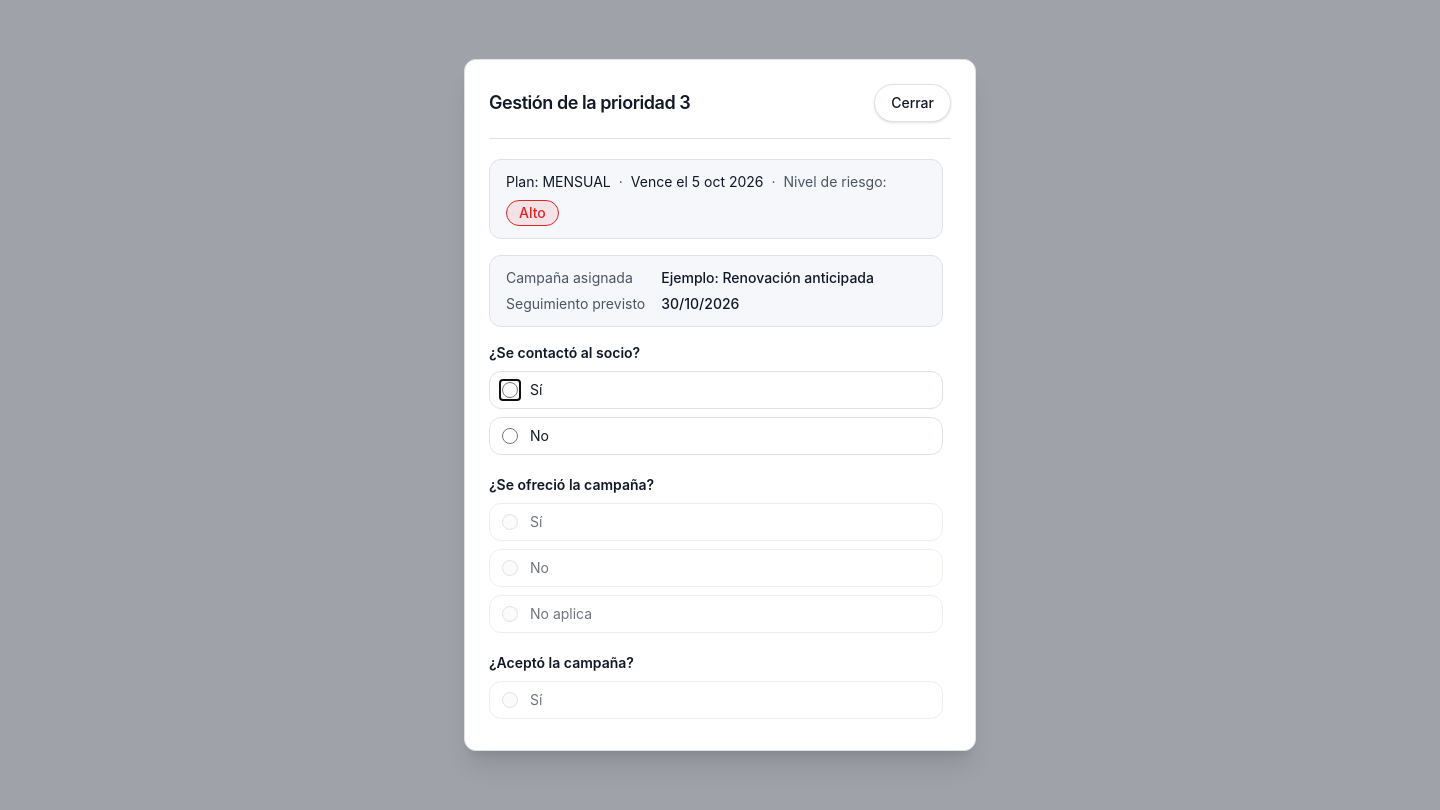
Scenario: FormularioGestion › parte 2: resultado de una gestion pendiente › ofrecida "Sí" → aceptacion Sí/No/Pendiente; ofrecida "No" → solo "No aplica"
Click the radio button labelled "Sí" below "¿Se contactó al socio?": (510, 390) [502, 382, 518, 398]
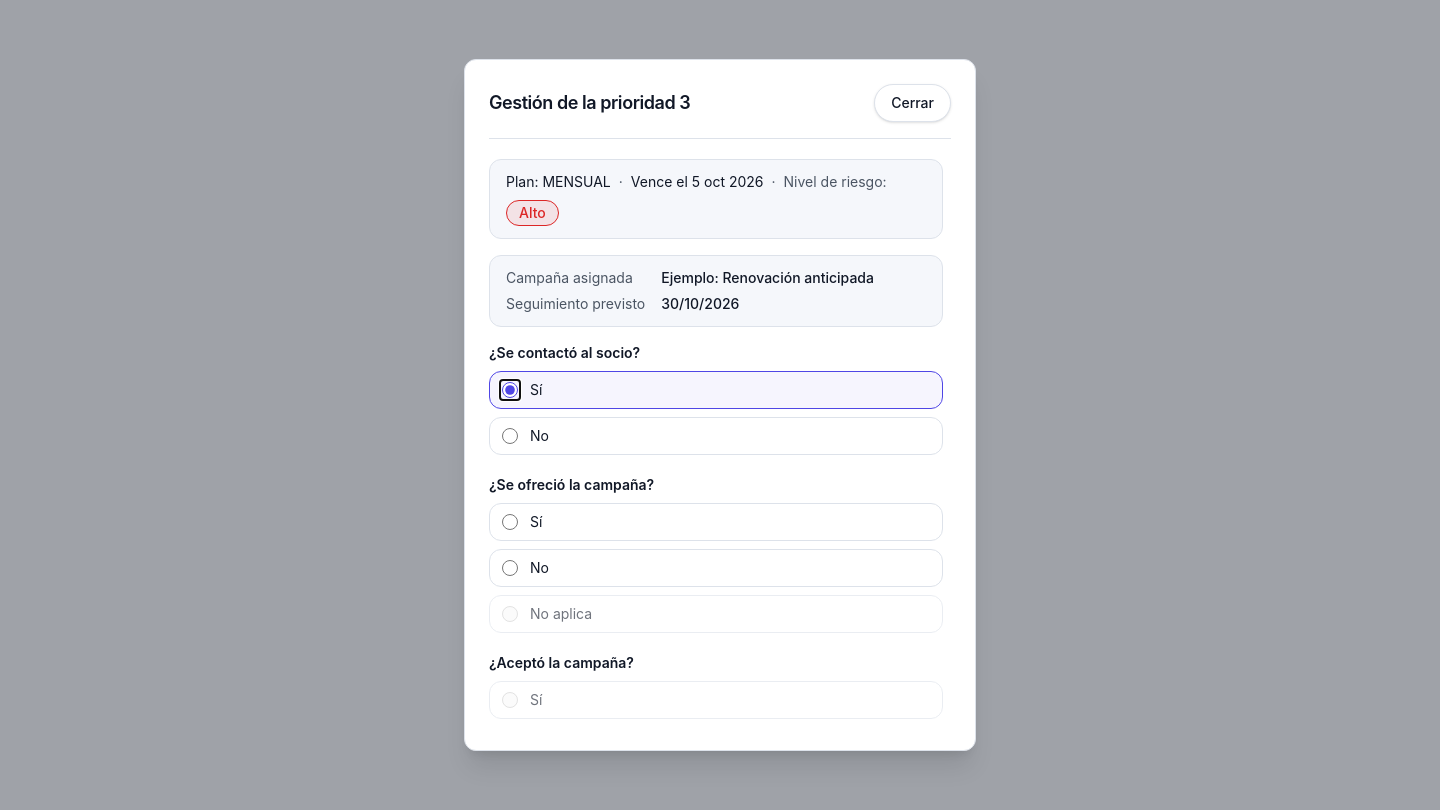
Click the radio button labelled "Sí" below "¿Se ofreció la campaña?": (510, 522) [502, 514, 518, 530]
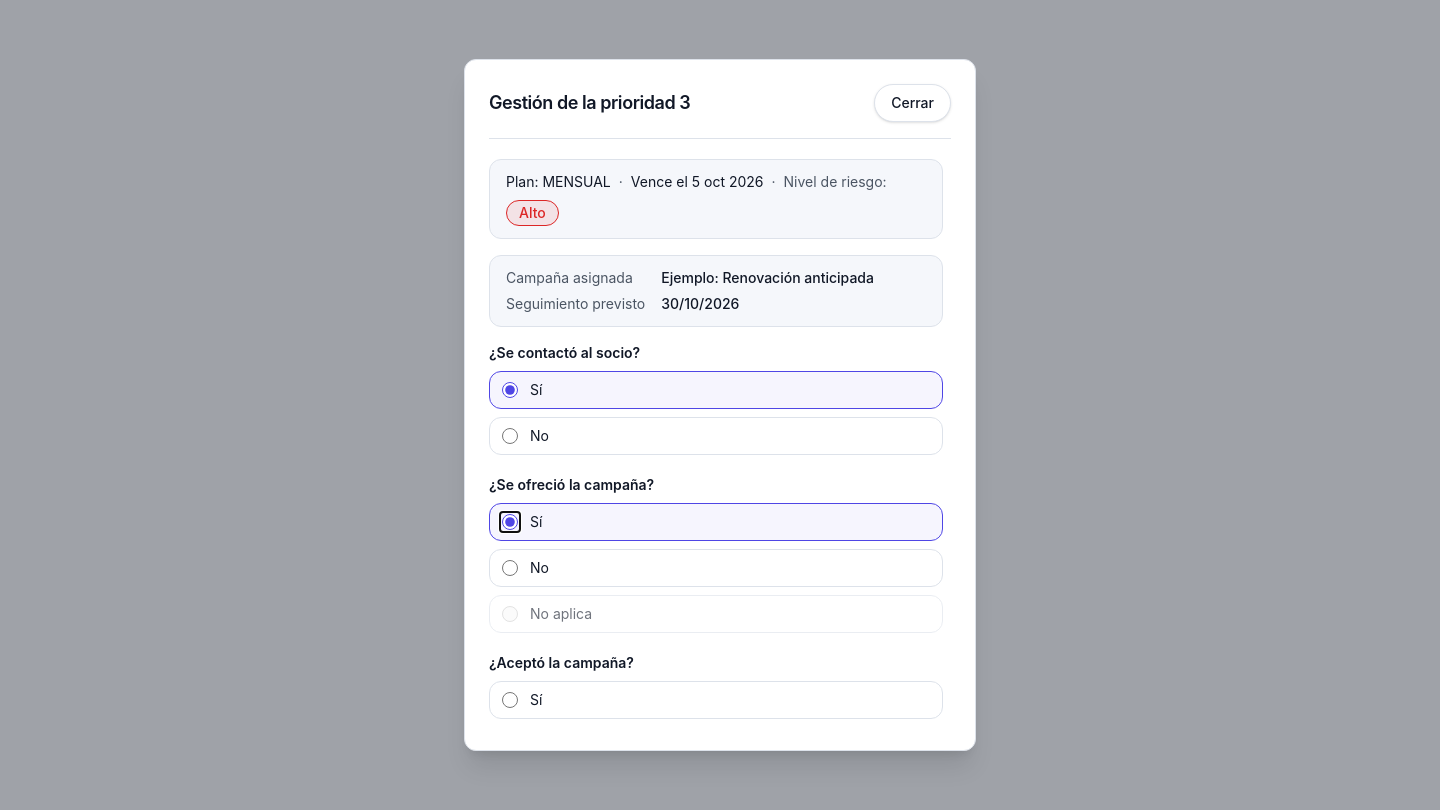
Click the radio button labelled "No" below "¿Se ofreció la campaña?": (510, 568) [502, 560, 518, 576]
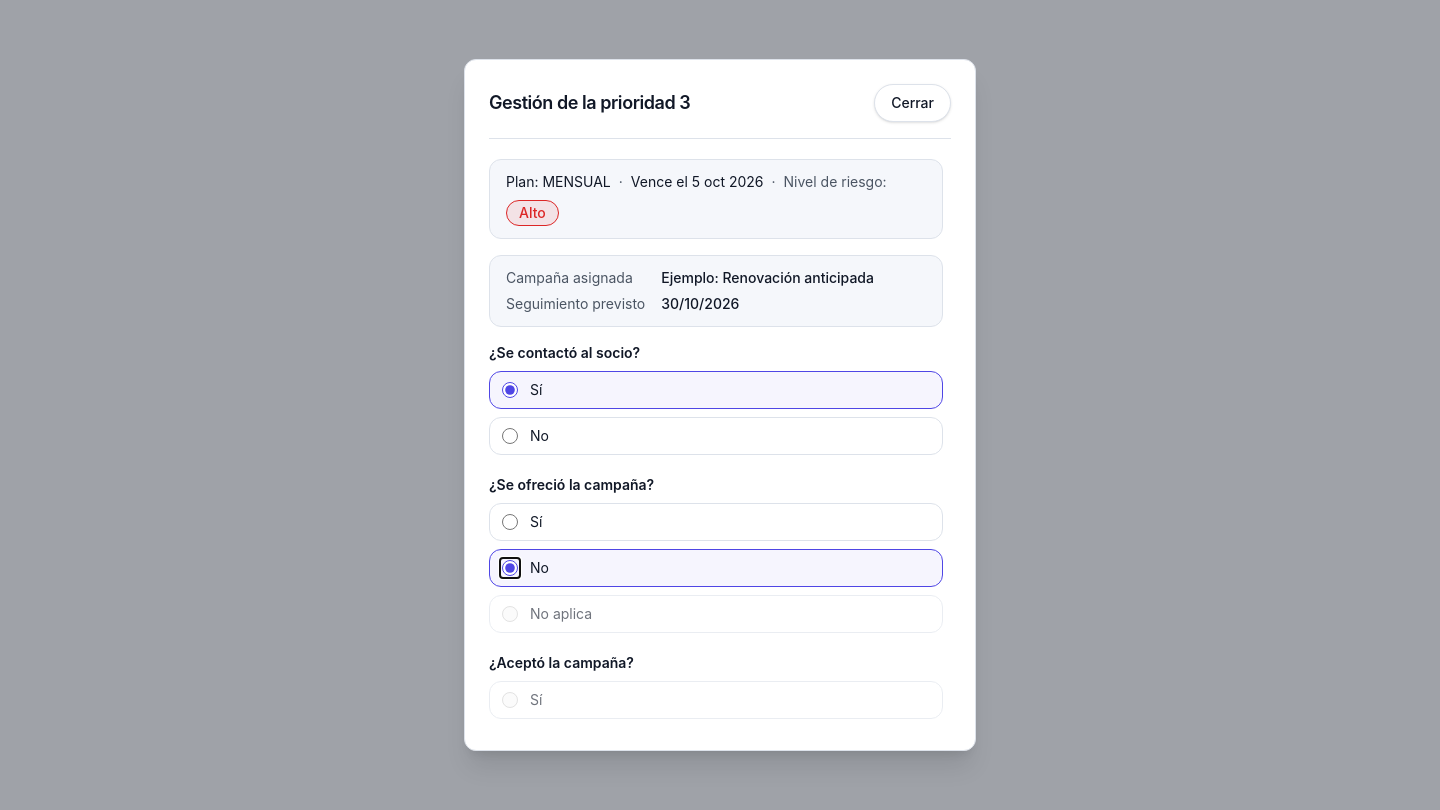
Result: the radio button labelled "Sí" below "¿Aceptó la campaña?" is disabled at [502, 692, 518, 708]
